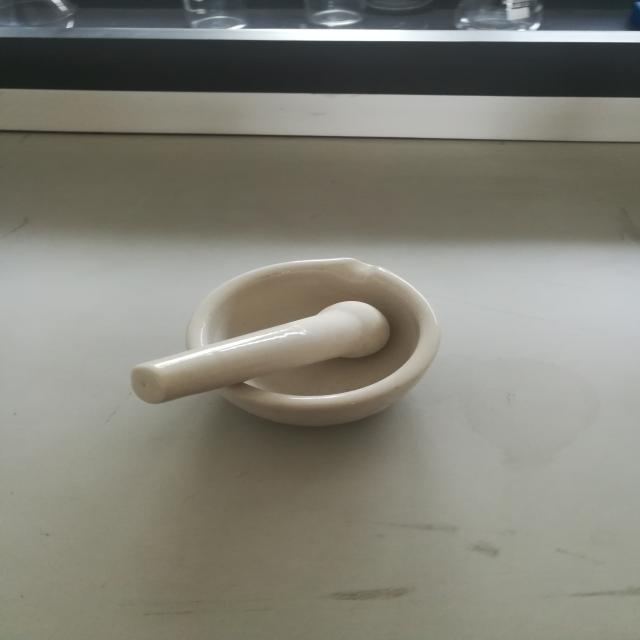Porcelain_Mortar Pestle: (93, 214, 480, 476)
